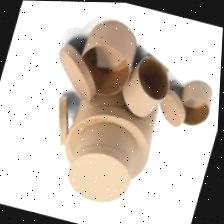cardboard: (44, 68, 182, 187), (56, 124, 157, 217), (67, 12, 152, 106), (109, 41, 185, 126), (44, 30, 112, 107), (41, 79, 83, 159), (173, 74, 220, 127), (153, 85, 194, 138)
